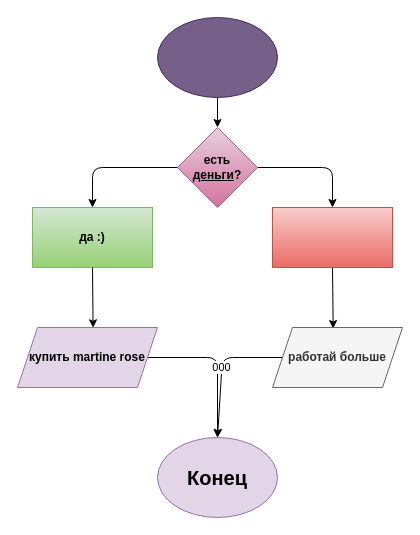
Some shapes in this 420 by 535 pixel diagram are drawn without their labels. Each missing label, with the centre of its shape:
"Начало" belongs at point 217,57.
"нет :(" belongs at point 332,237.
